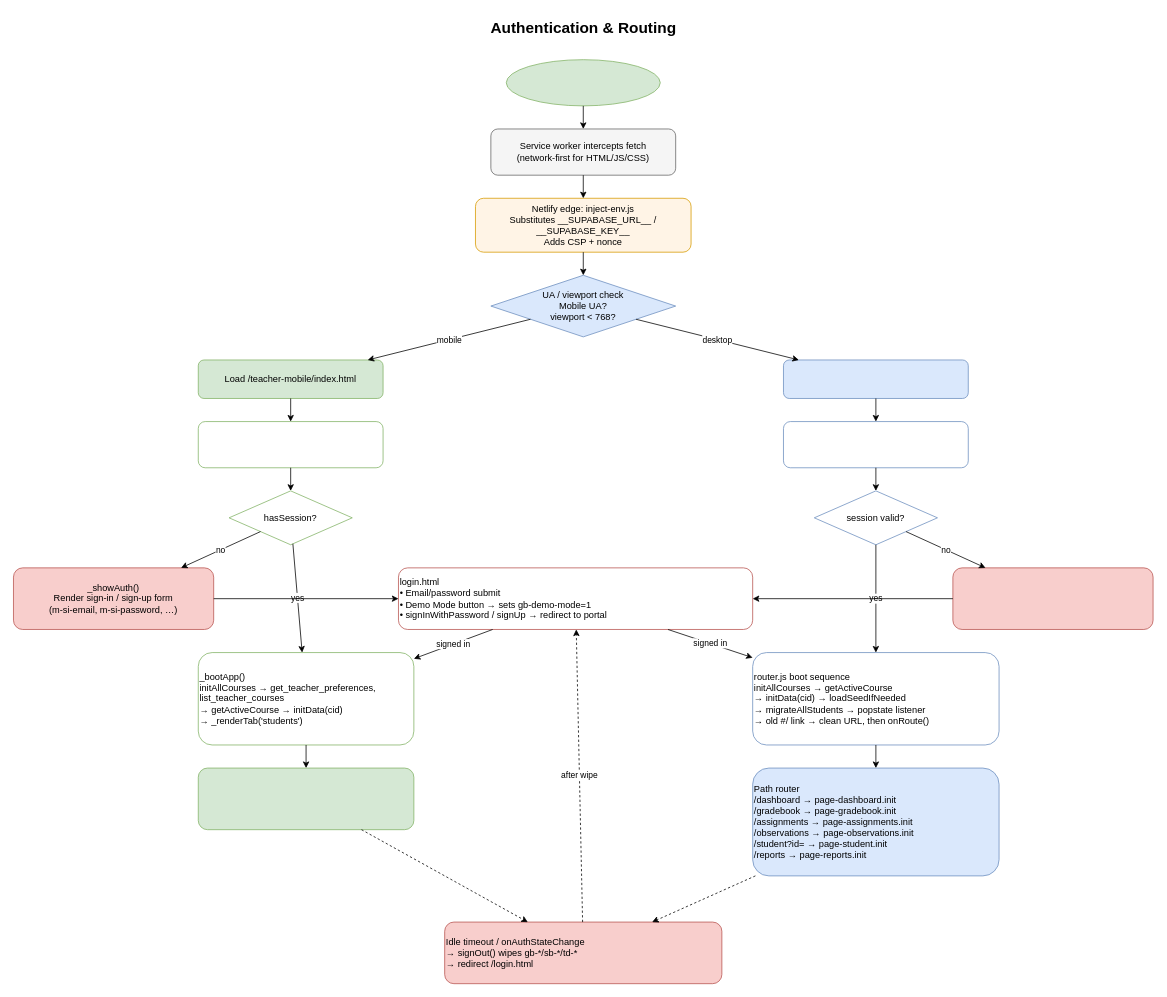
This 1167x997 diagram has some shape labels left out. Here are the shapes that lost their labels. From the top down, the centre of each, then its label:
At (583,82): "User hits URL".
At (875,378): "Load /teacher/app.html".
At (290,444): "shell.js boot() await sb.auth.getSession()".
At (875,444): "router.js boot() await requireAuth()".
At (1052,598): "window.location = /login.html Render sign-in / sign-up form".
At (306,798): "Tab bar render Students · Observe · Grade Event delegation via _bindEvents".
